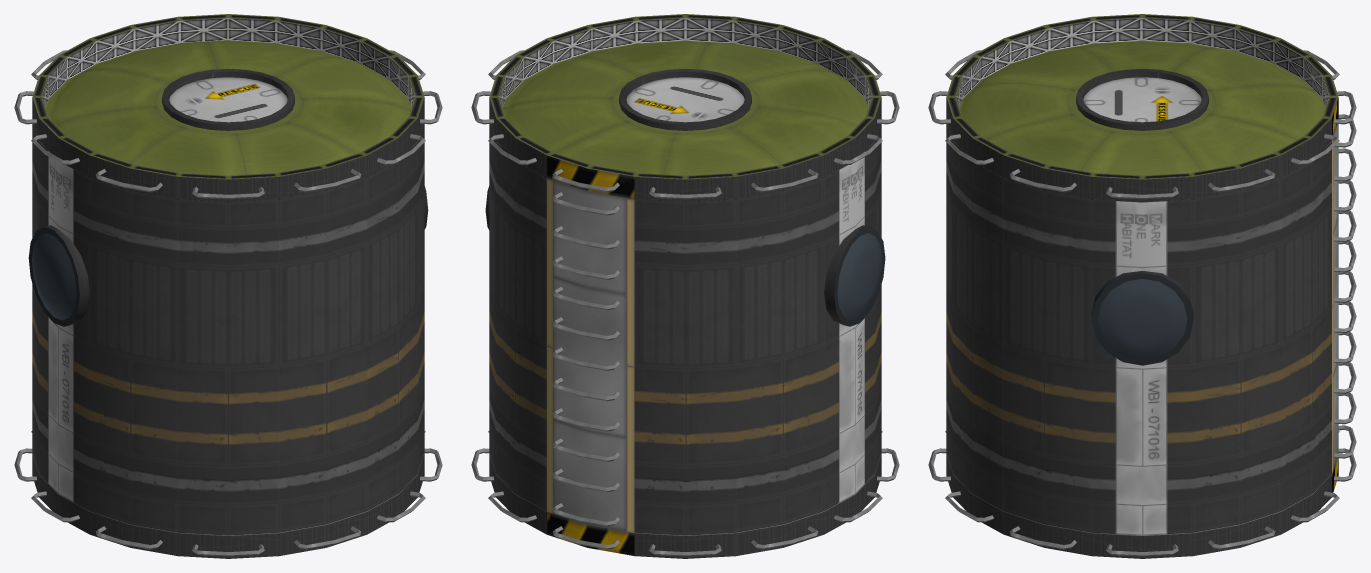
Rendered from MOH.FBX.
3 views of the same model, side by side, from view 1: azimuth 30°, elevation 25°; view 2: azimuth 150°, elevation 25°; view 3: azimuth 270°, elevation 25° (orthographic).
Visible parts, largest first — view 1: Cylinder003, EndCap001, TankSleeve001, TankSleeve002, CrewPort, Window003, WindowFrame003; view 2: Cylinder003, EndCap001, TankSleeve001, TankSleeve002, CrewPort, Window003, WindowFrame003; view 3: Cylinder003, EndCap001, TankSleeve001, TankSleeve002, Window007, CrewPort.
Part boxes in pixels (left/top/right/bottom): Cylinder003: left=32, top=124, right=424, bottom=535; EndCap001: left=39, top=40, right=417, bottom=202; TankSleeve001: left=32, top=14, right=424, bottom=202; TankSleeve002: left=32, top=454, right=424, bottom=558; CrewPort: left=162, top=68, right=294, bottom=130; Window003: left=28, top=227, right=79, bottom=326; WindowFrame003: left=45, top=225, right=90, bottom=326; Cylinder003: left=489, top=124, right=881, bottom=535; EndCap001: left=496, top=41, right=874, bottom=202; TankSleeve001: left=489, top=14, right=881, bottom=202; TankSleeve002: left=489, top=454, right=881, bottom=558; CrewPort: left=619, top=68, right=751, bottom=130; Window003: left=834, top=227, right=885, bottom=326; WindowFrame003: left=824, top=225, right=868, bottom=326; Cylinder003: left=946, top=124, right=1338, bottom=535; EndCap001: left=953, top=41, right=1331, bottom=202; TankSleeve001: left=946, top=14, right=1338, bottom=202; TankSleeve002: left=946, top=454, right=1338, bottom=558; Window007: left=1091, top=273, right=1193, bottom=365; CrewPort: left=1076, top=68, right=1208, bottom=130.
Size of what is drawn, in the model's own units: 2.05 by 2 by 2.05.
